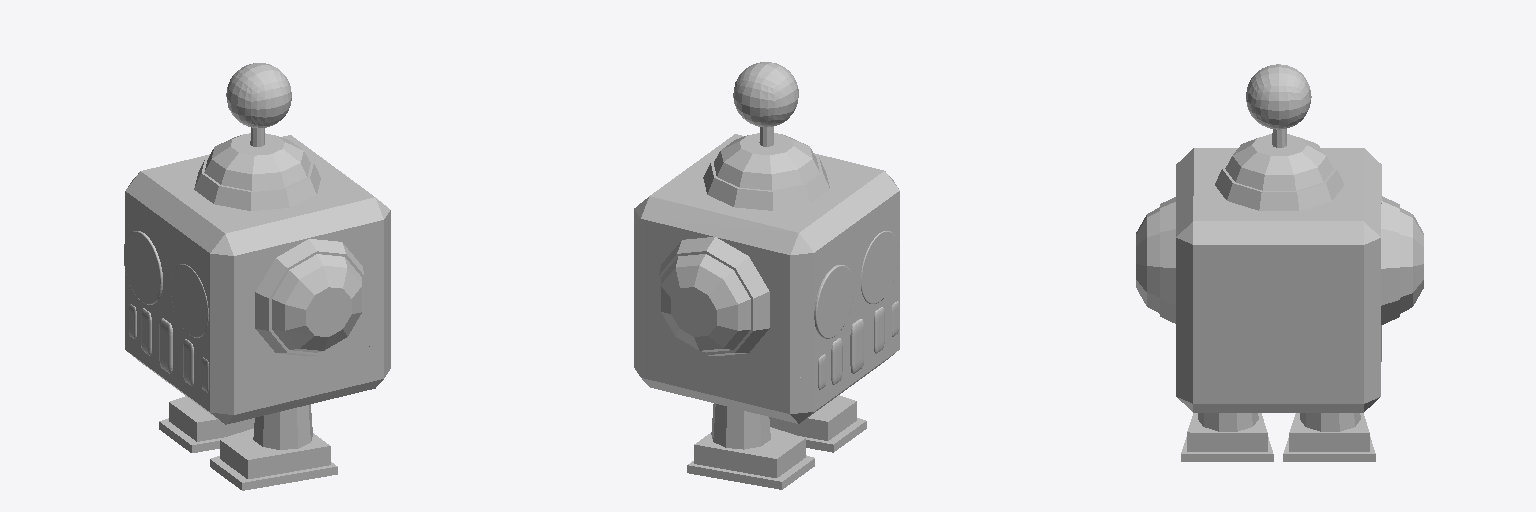
The model's file is Release Robot.obj.
The picture shows the model from 3 angles: view 1: azimuth 30°, elevation 25°; view 2: azimuth 150°, elevation 25°; view 3: azimuth 270°, elevation 25°; orthographic projection.
Parts seen in each view (by area): view 1: Meshpart4, Meshpart6, Meshpart5, Meshpart3, Part1, Meshpart9, Meshpart10, Meshpart2, Meshpart7; view 2: Meshpart4, Meshpart6, Meshpart5, Meshpart3, Part1, Meshpart9, Meshpart10, Meshpart2, Meshpart7; view 3: Meshpart4, Meshpart6, Meshpart5, Meshpart3, Part1, Meshpart9.
Boxes of the visible parts, x1,y1,x2,y2 form: Meshpart4: [125, 135, 390, 378]; Meshpart6: [169, 133, 361, 478]; Meshpart5: [125, 314, 390, 424]; Meshpart3: [159, 157, 363, 490]; Part1: [226, 63, 291, 127]; Meshpart9: [250, 127, 312, 449]; Meshpart10: [124, 231, 162, 304]; Meshpart2: [171, 264, 208, 337]; Meshpart7: [159, 318, 172, 373]; Meshpart4: [634, 134, 899, 378]; Meshpart6: [661, 133, 856, 477]; Meshpart5: [634, 314, 899, 423]; Meshpart3: [659, 157, 866, 489]; Part1: [733, 62, 798, 126]; Meshpart9: [711, 127, 773, 449]; Meshpart10: [814, 265, 853, 338]; Meshpart2: [861, 231, 898, 303]; Meshpart7: [850, 319, 863, 373]; Meshpart4: [1176, 148, 1381, 367]; Meshpart6: [1136, 134, 1423, 451]; Meshpart5: [1176, 327, 1381, 412]; Meshpart3: [1160, 156, 1399, 461]; Part1: [1246, 64, 1311, 129]; Meshpart9: [1198, 129, 1360, 431].
Bounding box in the file's own units: 11.22 × 22.21 × 15.25.